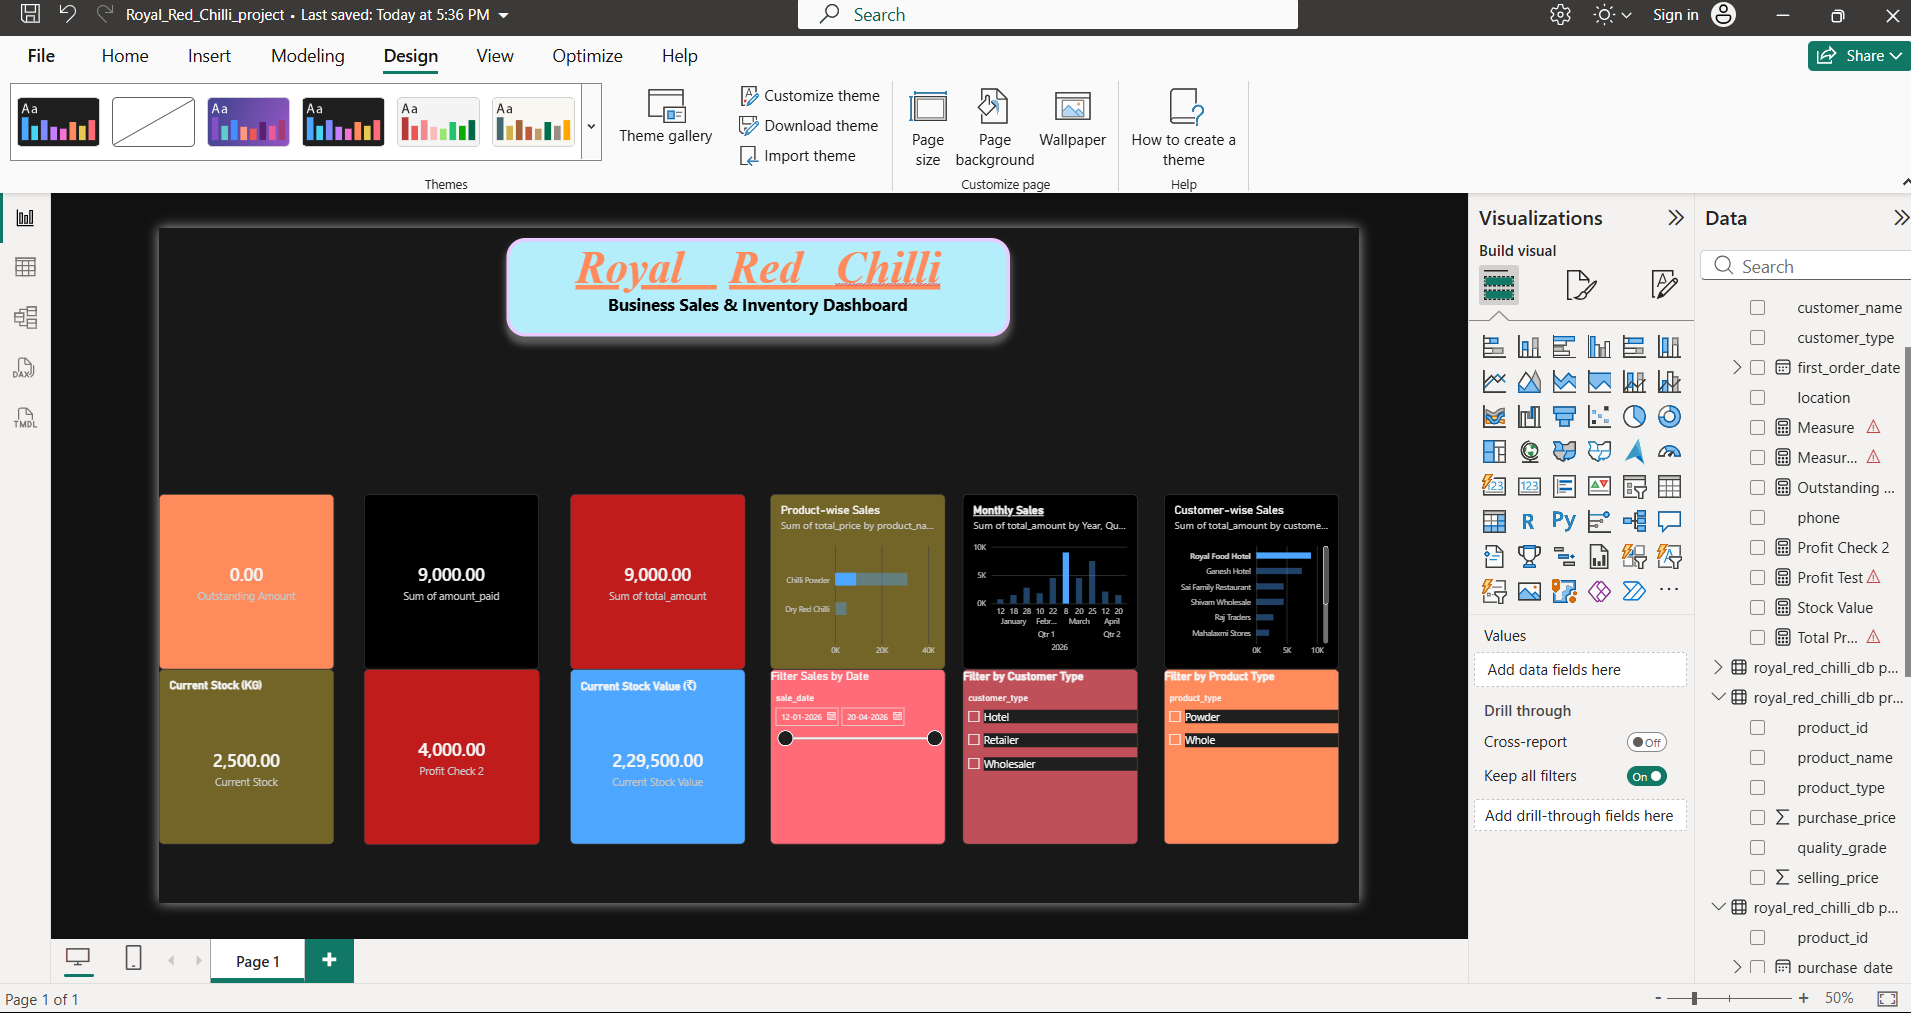

What the dashboard file says about the page in this screenshot:
{"tool":"powerbi","page":{"name":"Page 1","canvas":[1920,1080],"ordinal":0},"visuals":[{"type":"columnChart","title":"Monthly Sales","fields":{"Category":["royal_red_chilli_db sales.sale_date.Variation.Date Hierarchy.Year","royal_red_chilli_db sales.sale_date.Variation.Date Hierarchy.Quarter","royal_red_chilli_db sales.sale_date.Variation.Date Hierarchy.Month","royal_red_chilli_db sales.sale_date.Variation.Date Hierarchy.Day"],"Y":["Sum(royal_red_chilli_db sales.total_amount)"]},"box":[1286,426,280,280],"z":0},{"type":"card","fields":{"Values":["Sum(royal_red_chilli_db sales.total_amount)"]},"box":[658,426,280,280],"z":1000},{"type":"card","fields":{"Values":["royal_red_chilli_db customers.Profit Check 2"]},"box":[328,706,280.5,280.5],"z":2000},{"type":"card","fields":{"Values":["Sum(royal_red_chilli_db payments.amount_paid)"]},"box":[328,426,280,280],"z":3000},{"type":"card","fields":{"Values":["royal_red_chilli_db customers.Outstanding Amount"]},"box":[0,425.3,280,280],"z":4000},{"type":"card","title":"Current Stock (KG)","fields":{"Values":["royal_red_chilli_db customers.Current Stock"]},"box":[0,706,280,280],"z":5000},{"type":"card","title":"Current Stock Value (₹)","fields":{"Values":["royal_red_chilli_db customers.Current Stock Value"]},"box":[658,706,280,280],"z":6000},{"type":"clusteredBarChart","title":"Product-wise Sales","fields":{"Category":["royal_red_chilli_db products.product_name"],"Y":["Sum(royal_red_chilli_db sale_items.total_price)"]},"box":[978,426,280,280],"z":7000},{"type":"clusteredBarChart","title":"Customer-wise Sales","fields":{"Category":["royal_red_chilli_db customers.customer_name"],"Y":["Sum(royal_red_chilli_db sales.total_amount)"]},"box":[1608,426,280,280],"z":8000},{"type":"slicer","title":"Filter Sales by Date","fields":{"Values":["royal_red_chilli_db sales.sale_date"]},"box":[978,706,280,280],"z":9000},{"type":"slicer","title":"Filter by Customer Type","fields":{"Values":["royal_red_chilli_db customers.customer_type"]},"box":[1286,706,280,280],"z":10000},{"type":"slicer","title":"Filter by Product Type","fields":{"Values":["royal_red_chilli_db products.product_type"]},"box":[1608,706,280,280],"z":11000},{"type":"textbox","box":[555.6,16.3,805.3,157.4],"z":13000}]}

Visuals, with their boxes on the page's 1920x1080 design canvas (x1, y1, x2, y2). These are canvas units, not pixel positions in the 1911x1013 screenshot, which may show the page scaled, cropped or inside an application window:
"Monthly Sales" columnChart: (1286,426,1566,706)
card - Sum(royal_red_chilli_db sales.total_amount): (658,426,938,706)
card - royal_red_chilli_db customers.Profit Check 2: (328,706,608,986)
card - Sum(royal_red_chilli_db payments.amount_paid): (328,426,608,706)
card - royal_red_chilli_db customers.Outstanding Amount: (0,425,280,705)
"Current Stock (KG)" card: (0,706,280,986)
"Current Stock Value (₹)" card: (658,706,938,986)
"Product-wise Sales" clusteredBarChart: (978,426,1258,706)
"Customer-wise Sales" clusteredBarChart: (1608,426,1888,706)
"Filter Sales by Date" slicer: (978,706,1258,986)
"Filter by Customer Type" slicer: (1286,706,1566,986)
"Filter by Product Type" slicer: (1608,706,1888,986)
textbox: (556,16,1361,174)
